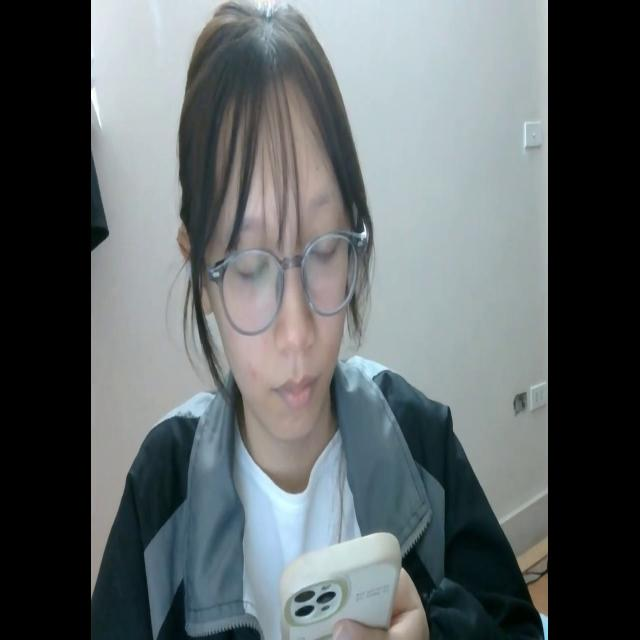phone: (278, 530, 400, 640)
student: (96, 1, 547, 640)
